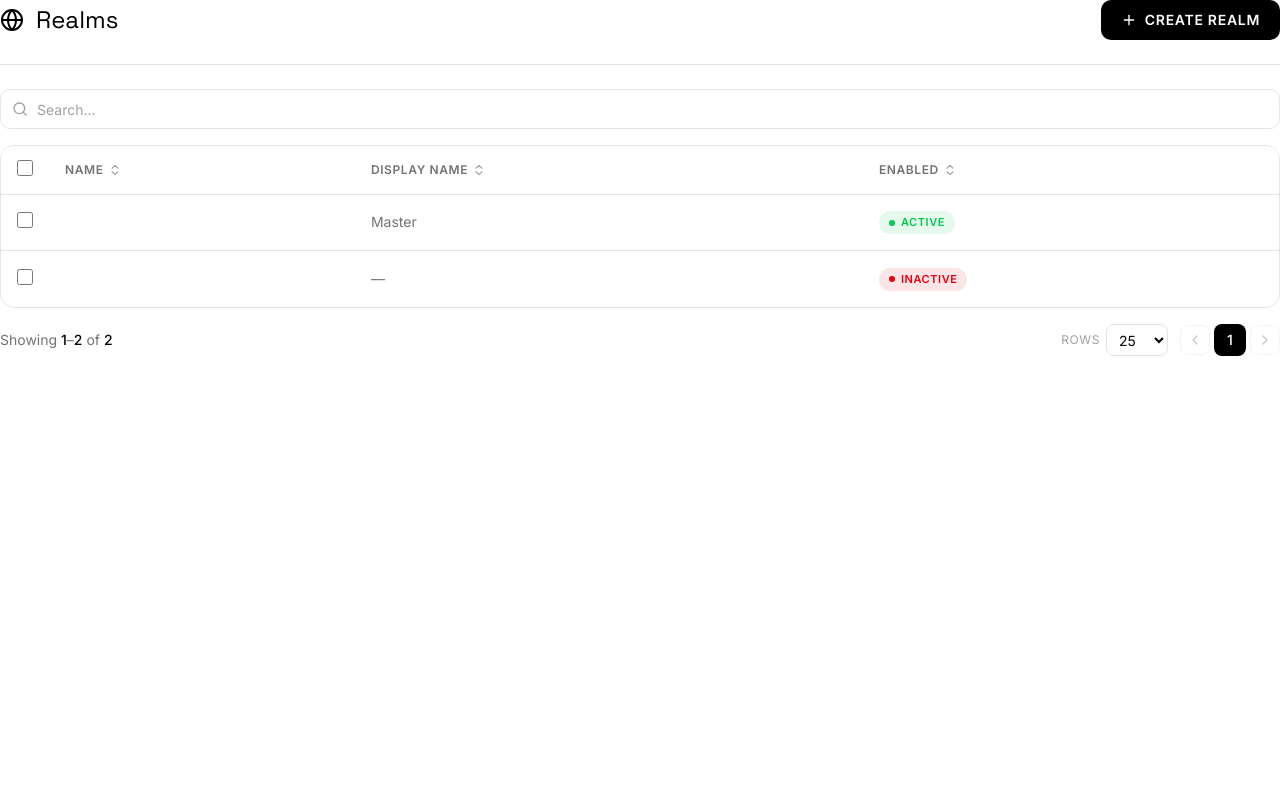
Test: RealmListPage › opens create modal
What coordinates should you click on to do the following:
click the button "Create Realm"
I would click on:
 (1190, 20)
Its box is [1101,0,1279,40].
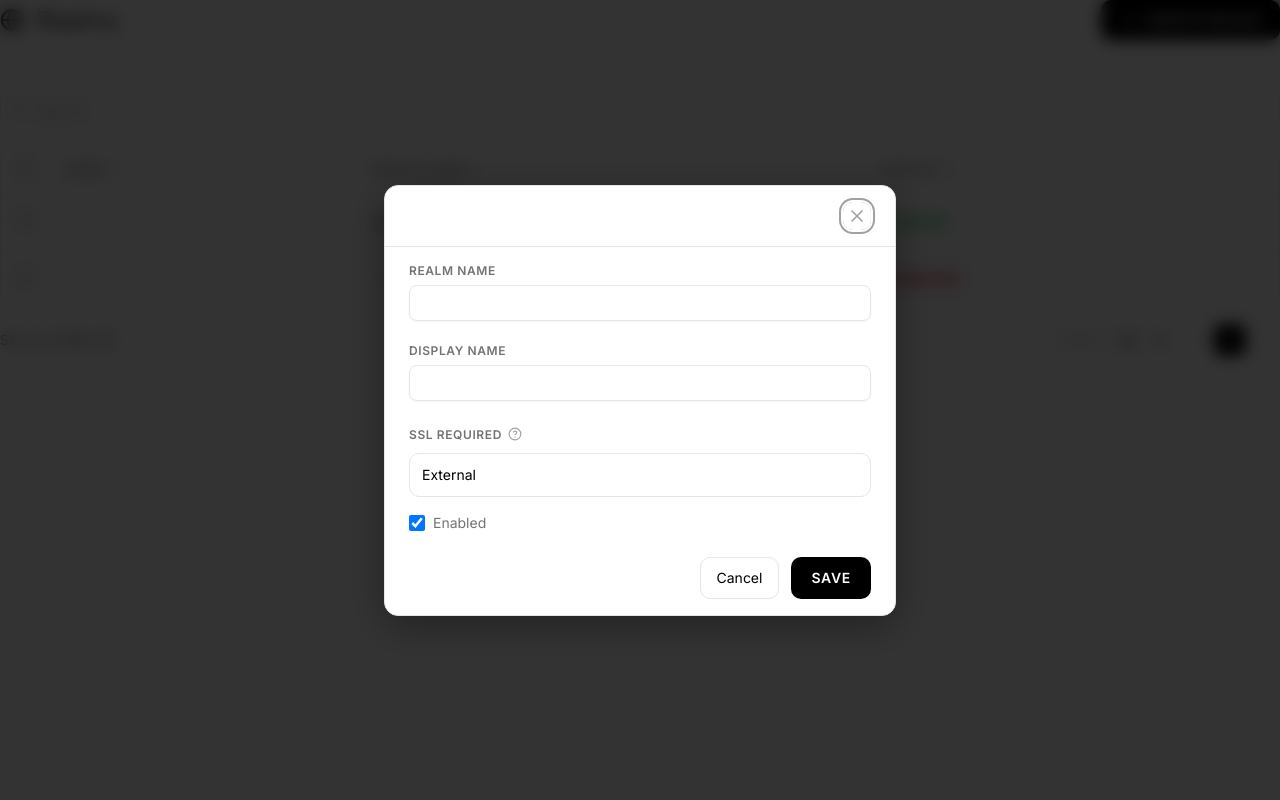
Result: the dialog is shown at [384,184,896,616]
